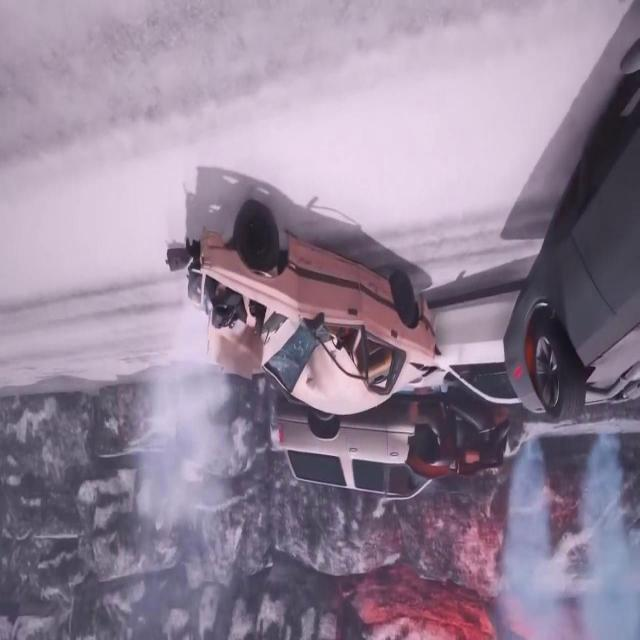severe: (248, 282, 534, 506), (168, 192, 443, 412), (501, 33, 640, 434)
